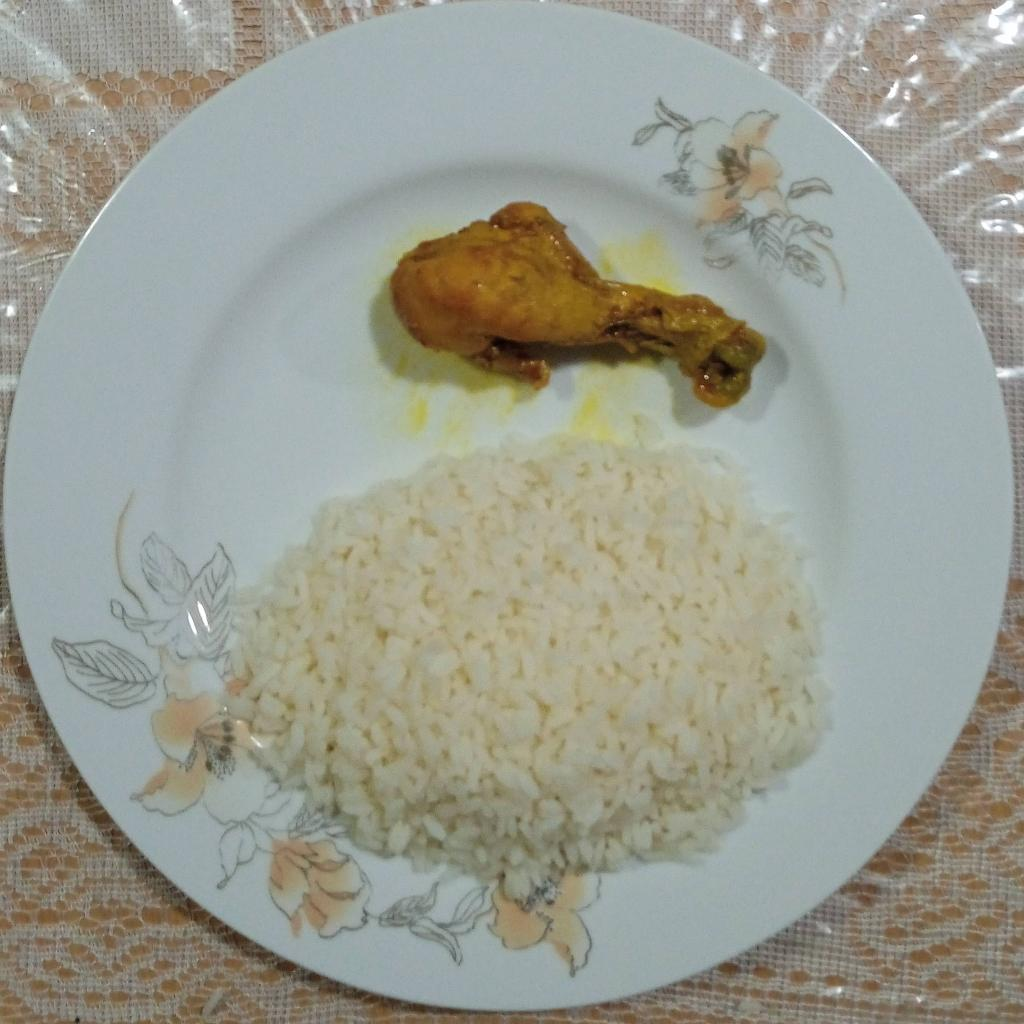chicken: (380, 204, 762, 401)
rice: (228, 441, 830, 899)
